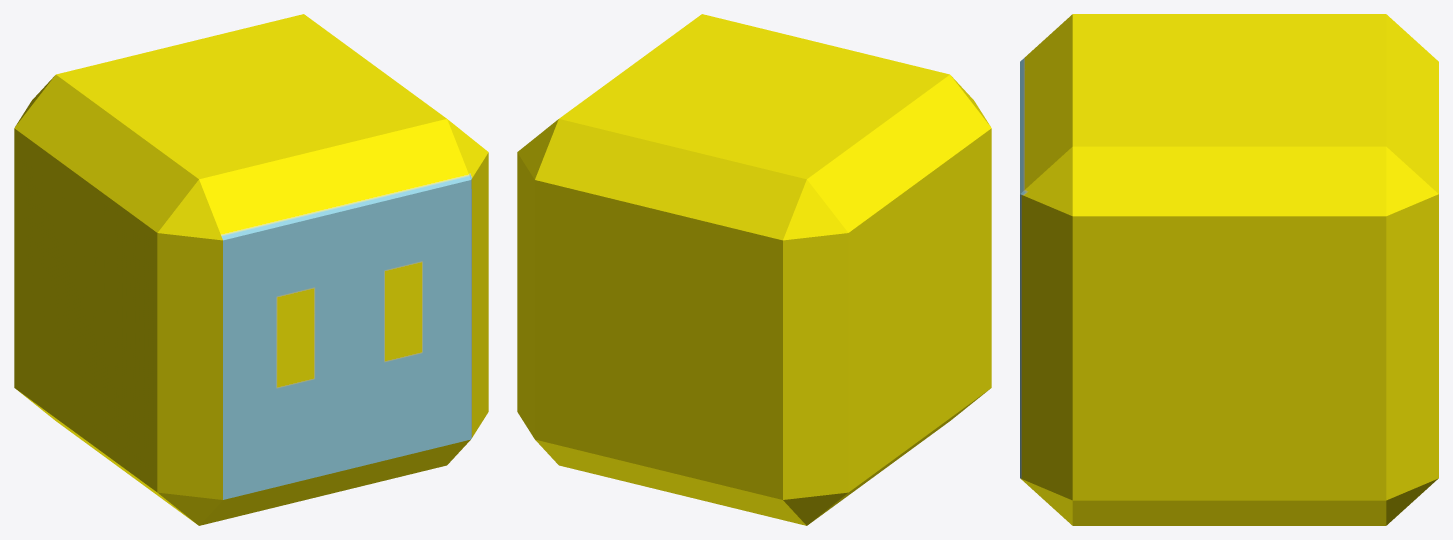
Rendered from Player003.obj.
The picture shows the model from 3 angles, left to right: view 1: azimuth 30°, elevation 25°; view 2: azimuth 150°, elevation 25°; view 3: azimuth 270°, elevation 25°; orthographic projection. The views are drawn at different scales.
Visible parts, largest first — view 1: Cube; view 2: Cube; view 3: Cube.
Boxes of the visible parts, box(x1,y1,x2,y2) form: Cube: box(14, 14, 488, 525); Cube: box(517, 14, 991, 525); Cube: box(1020, 14, 1438, 525).
Size of the model in its own units: 1.03 by 1.03 by 1.03.
1 material, 1 textured.
